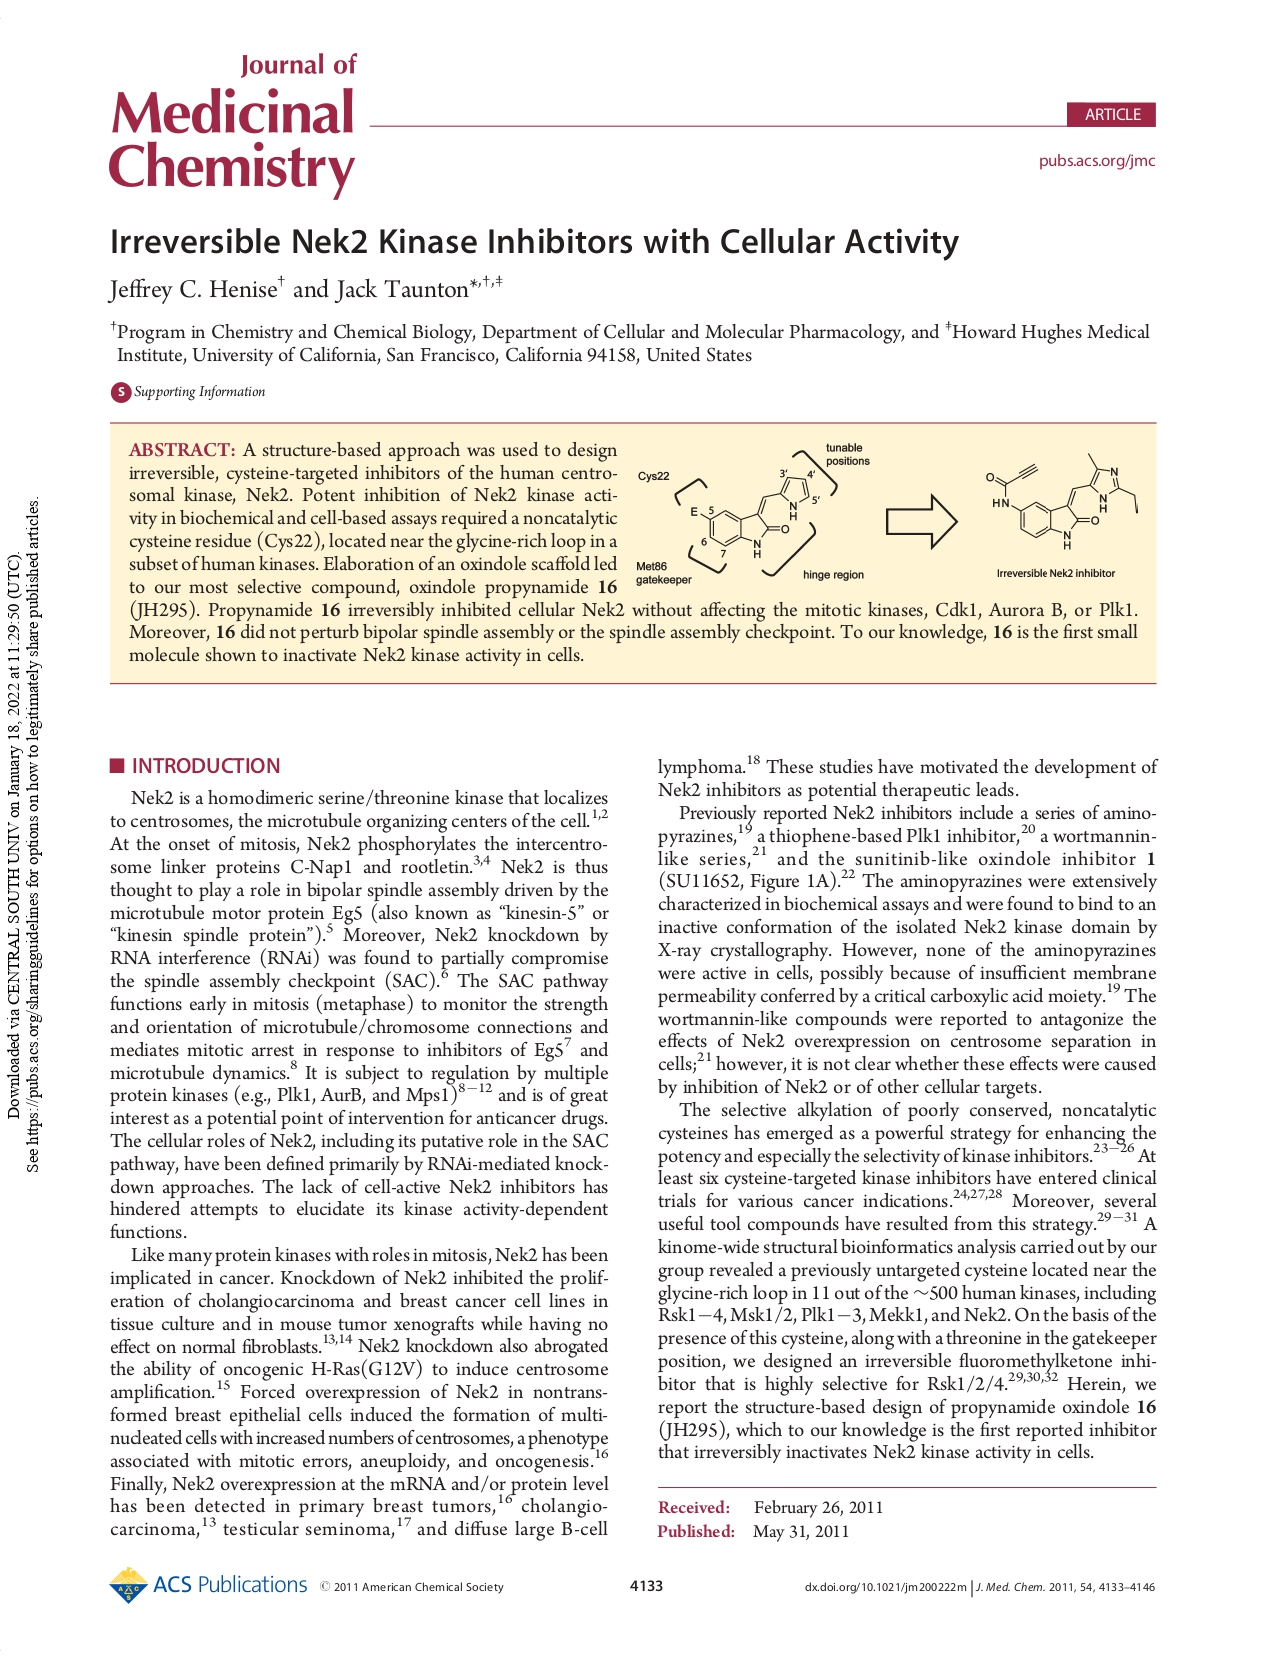exist_molecular: (983, 449, 1141, 552), (689, 475, 811, 560)
